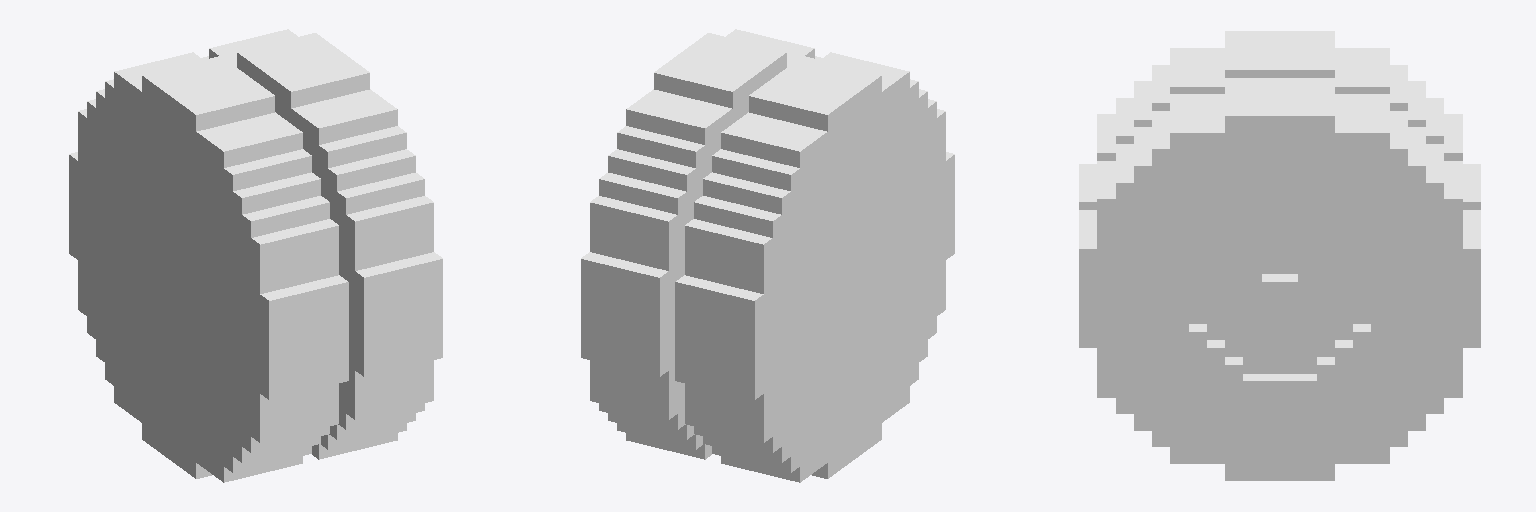
File: wheels-0-zil-130.obj
3 views of the same model, side by side, from view 1: azimuth 30°, elevation 25°; view 2: azimuth 150°, elevation 25°; view 3: azimuth 270°, elevation 25° (orthographic).
Visible parts, largest first — view 1: zil-130; view 2: zil-130; view 3: zil-130.
Part boxes in pixels (x1,y1,x2,y2): zil-130: (69,29,442,482); zil-130: (581,29,954,482); zil-130: (1079,31,1480,480).
Size of the model in its own units: 1.1 by 2.2 by 2.2.